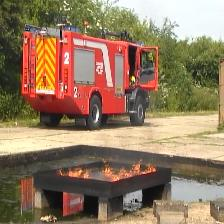fire: (103, 159, 156, 182), (59, 166, 91, 180)
